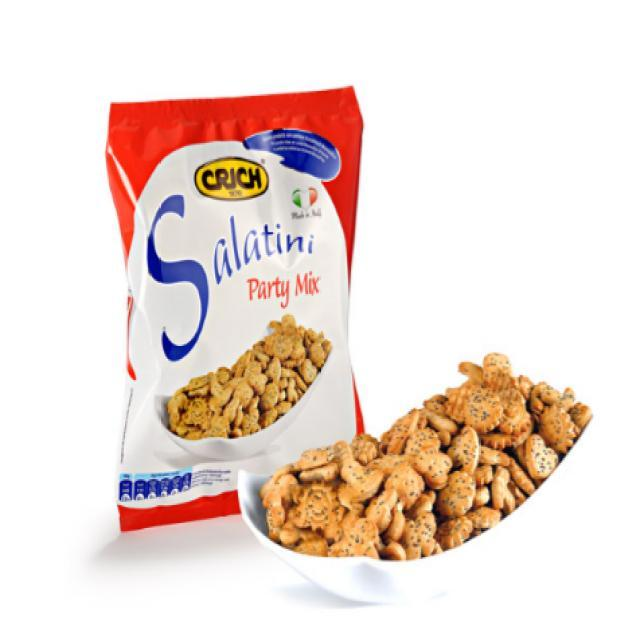Salatini: (262, 351, 605, 588)
